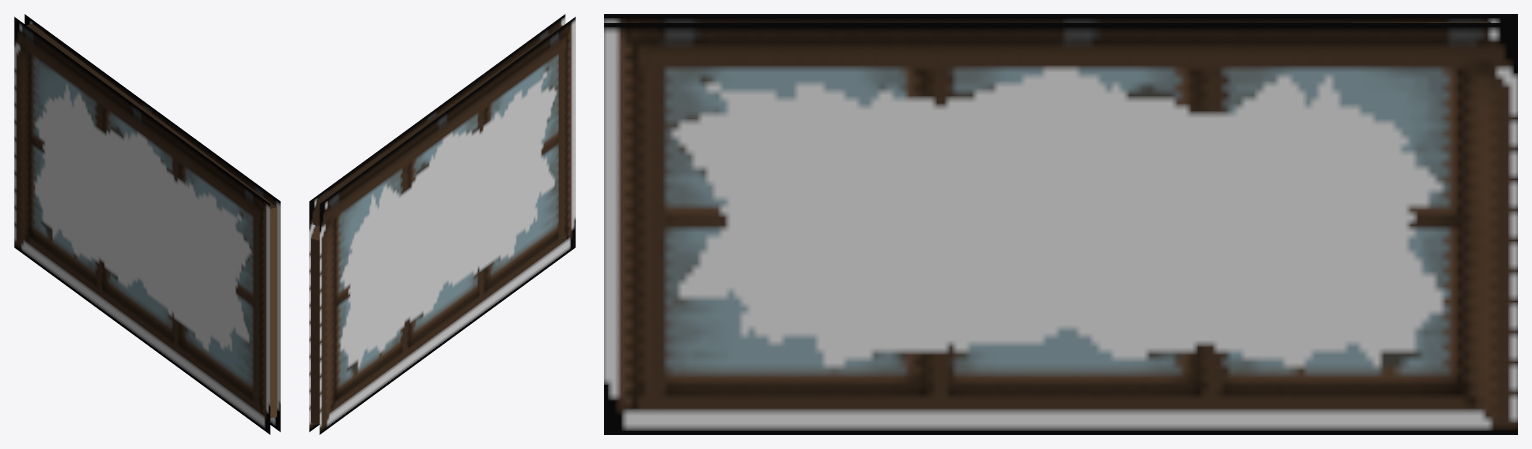
The model's file is pz_native_fixtures_windows_wood_68_frame.obj.
3 views of the same model, side by side, from view 1: azimuth 30°, elevation 25°; view 2: azimuth 150°, elevation 25°; view 3: azimuth 270°, elevation 25° (orthographic). The views are drawn at different scales.
Parts seen in each view (by area): view 1: pz_native_fixtures_windows_wood_68_frame; view 2: pz_native_fixtures_windows_wood_68_frame; view 3: pz_native_fixtures_windows_wood_68_frame.
Part boxes in pixels (left/top/right/bottom): pz_native_fixtures_windows_wood_68_frame: left=14, top=14, right=280, bottom=434; pz_native_fixtures_windows_wood_68_frame: left=309, top=14, right=575, bottom=434; pz_native_fixtures_windows_wood_68_frame: left=604, top=14, right=1517, bottom=434.
Bounding box in the file's own units: 0.04 × 0.8438 × 1.7.
1 material, 1 textured.
